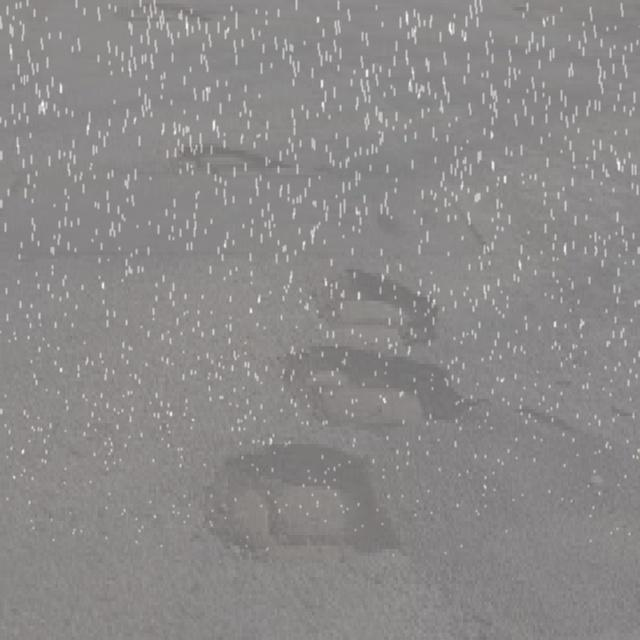Pothole: (182, 435, 399, 568), (294, 343, 478, 432), (297, 256, 447, 351), (169, 132, 299, 181)
